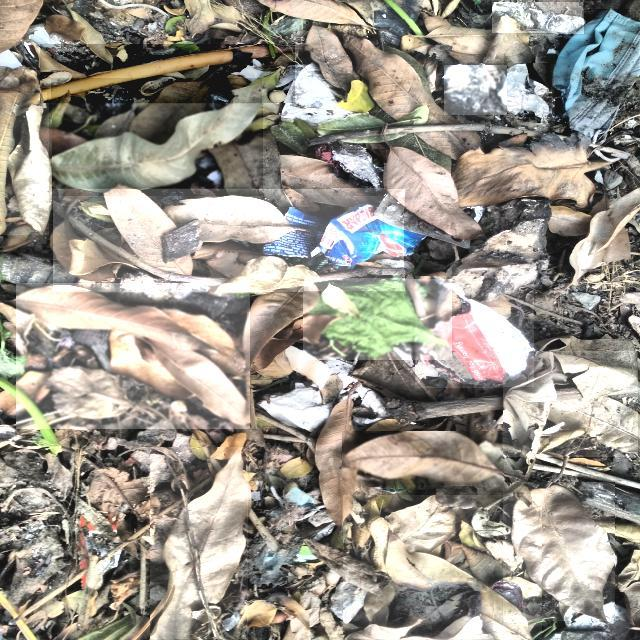anorganik: (266, 208, 432, 270), (444, 66, 507, 114), (500, 64, 550, 117), (492, 3, 582, 32), (333, 150, 385, 196)
b3: (555, 9, 640, 135)
organik: (279, 19, 485, 237), (53, 189, 405, 291), (16, 284, 249, 429), (344, 495, 542, 640), (52, 79, 262, 197), (151, 448, 247, 638), (504, 482, 615, 620), (41, 45, 294, 103), (503, 352, 639, 456), (415, 276, 534, 388), (304, 280, 452, 359), (452, 142, 599, 208), (342, 432, 503, 484), (0, 93, 49, 235)
